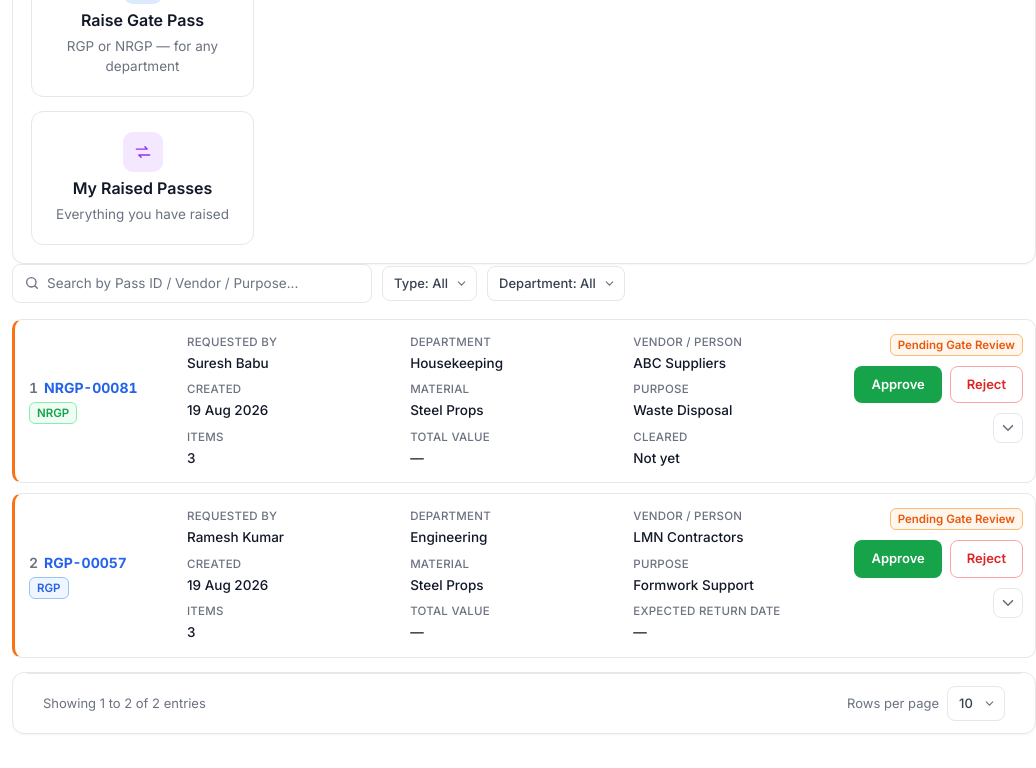
Reading a pass's material lines on the card › unfolds THIS pass's individual item details in place
(page scrolled)
expect the text "RGP-00057" is shown: met, box x1=44 y1=554 x2=127 y2=571
What coordinates should you click on to do the following:
click the button named "items on"
I would click on:
 (1008, 428)
Its box is x1=993 y1=413 x2=1023 y2=443.
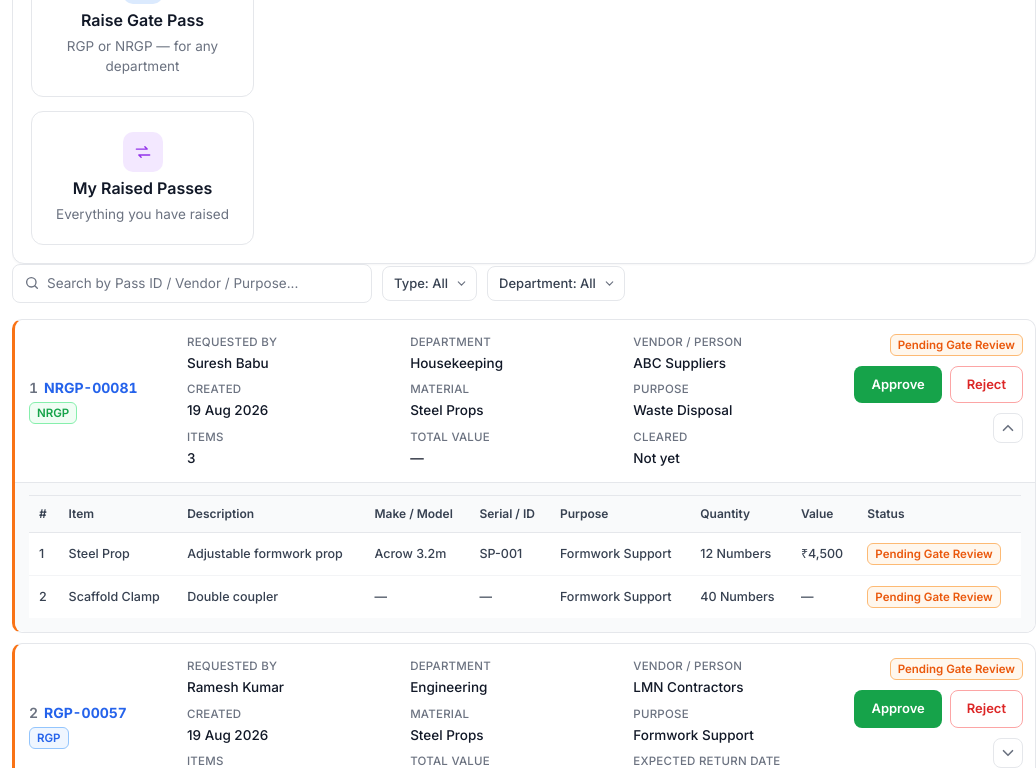
expect the text "Steel Prop" is shown: met, box x1=59 y1=532 x2=177 y2=576
expect the text "Adjustable formwork prop" is shown: met, box x1=177 y1=532 x2=364 y2=576
expect the text "Acrow 3.2m" is shown: met, box x1=364 y1=532 x2=469 y2=576
